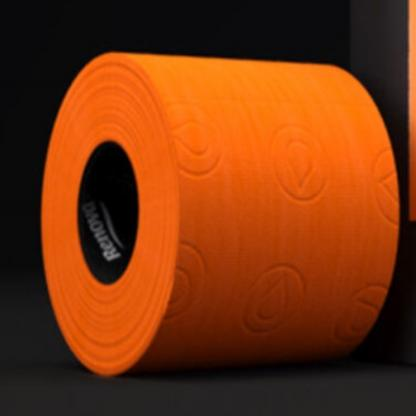tissue: (31, 32, 403, 390)
